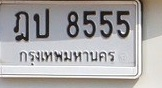txt11: (11, 10, 30, 42)
txt22: (31, 7, 50, 39)
